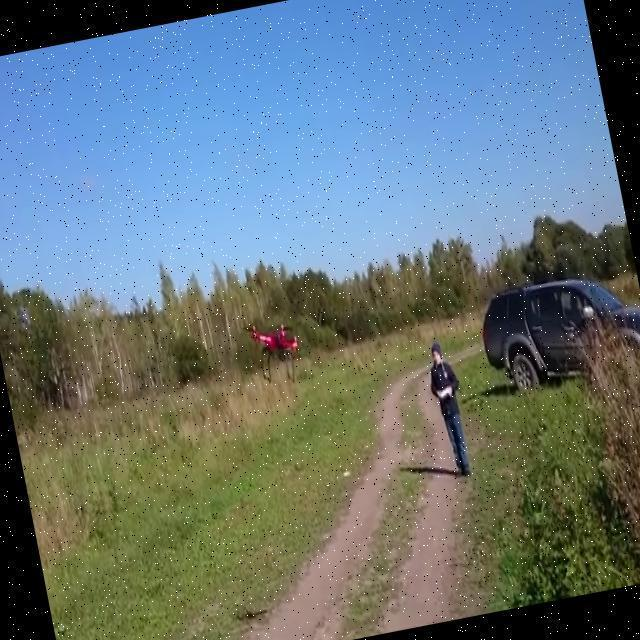Drons: (240, 316, 309, 393)
